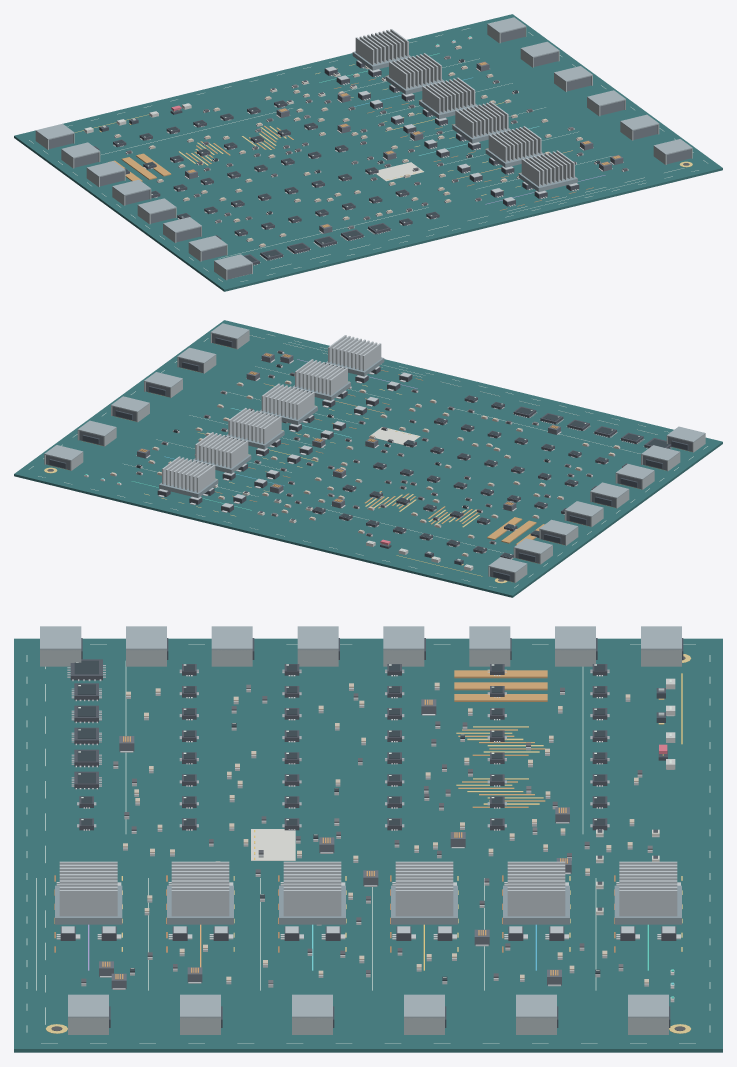
Rendered from 321_L120_AssembledReference.glb.
3 renders of one model, top to bottom at view 1: azimuth 30°, elevation 25°; view 2: azimuth 150°, elevation 25°; view 3: azimuth 270°, elevation 25°, orthographic. The views are drawn at different scales.
Visible parts, largest first — view 1: 1860__PSMAT__pcb_green, 2121__PSMAT__power_ceramic; view 2: 1860__PSMAT__pcb_green, 2121__PSMAT__power_ceramic; view 3: 1860__PSMAT__pcb_green, 2030__PSMAT__aluminum, 2085__PSMAT__aluminum, 2041__PSMAT__aluminum, 2052__PSMAT__aluminum, 2063__PSMAT__aluminum, 2074__PSMAT__aluminum, 2121__PSMAT__power_ceramic, 1673__PSMAT__shield_matte, 1713__PSMAT__shield_matte, 1613__PSMAT__shield_matte, 1693__PSMAT__shield_matte (+32 smaller).
Boxes of the visible parts, x1,y1,x2,y2 form: 1860__PSMAT__pcb_green: [14, 14, 722, 291]; 2121__PSMAT__power_ceramic: [376, 162, 423, 181]; 1860__PSMAT__pcb_green: [14, 320, 722, 597]; 2121__PSMAT__power_ceramic: [371, 427, 420, 444]; 1860__PSMAT__pcb_green: [14, 638, 722, 1052]; 2030__PSMAT__aluminum: [59, 890, 117, 916]; 2085__PSMAT__aluminum: [619, 890, 677, 916]; 2041__PSMAT__aluminum: [171, 890, 229, 916]; 2052__PSMAT__aluminum: [283, 890, 341, 916]; 2063__PSMAT__aluminum: [395, 890, 453, 916]; 2074__PSMAT__aluminum: [507, 890, 565, 916]; 2121__PSMAT__power_ceramic: [251, 829, 295, 860]; 1673__PSMAT__shield_matte: [297, 626, 338, 650]; 1713__PSMAT__shield_matte: [469, 626, 510, 650]; 1613__PSMAT__shield_matte: [40, 626, 81, 650]; 1693__PSMAT__shield_matte: [383, 626, 424, 650].
Size of the model in its own units: 0.52 by 0.0301 by 0.38.
